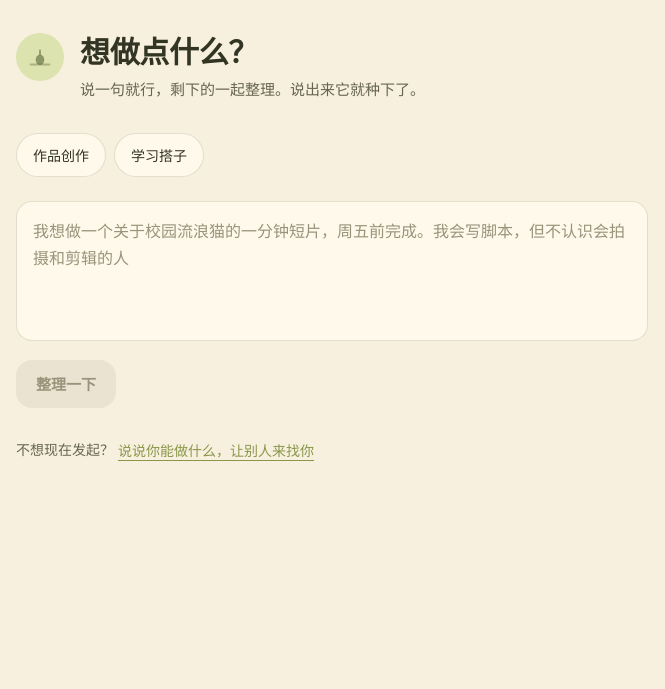
整理出来的卡片 › 系统猜的字段会被标出来，不会默默当成事实
Click the button "作品创作". click: (61, 155)
box: [16,133,106,177]
(page scrolled)
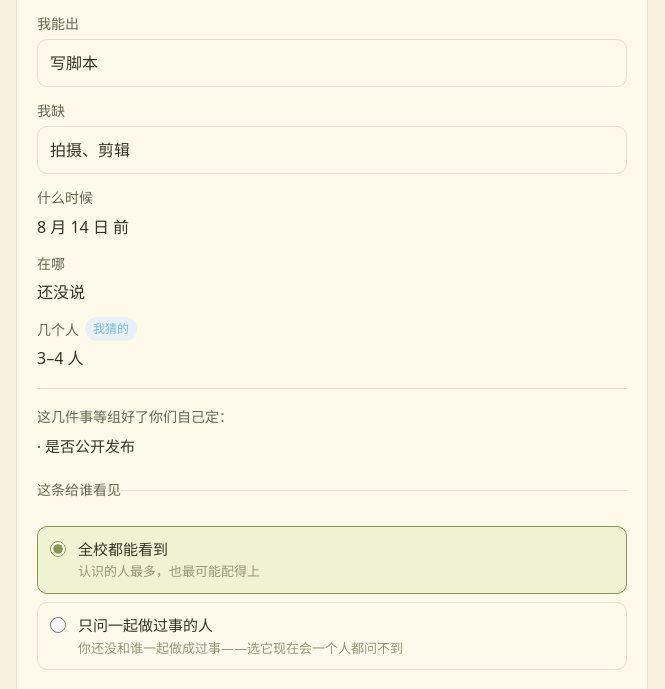
Expected: the text "我猜的" is shown, [85,318,137,341]
